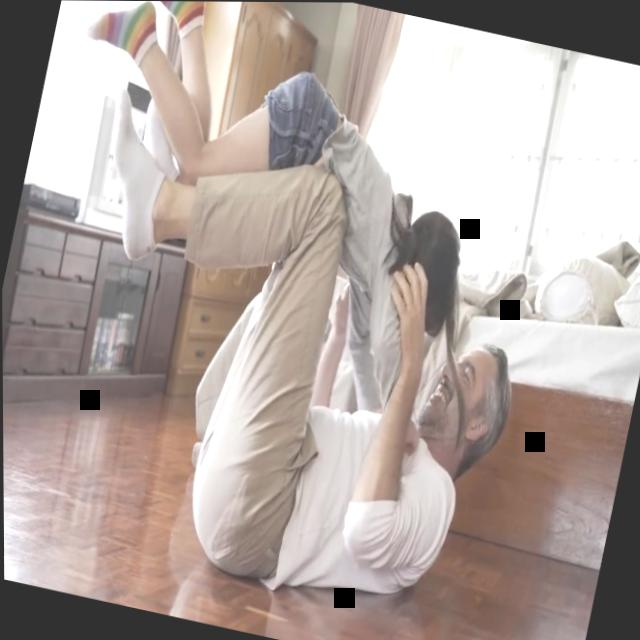NO-Mask: (413, 333, 499, 445)
